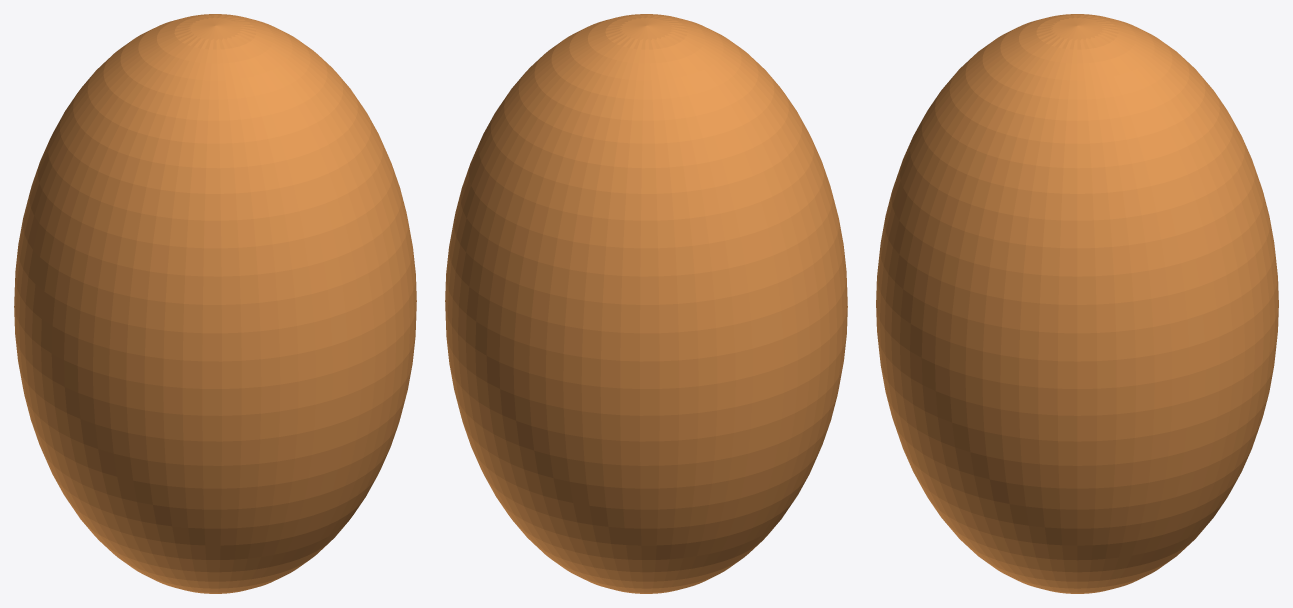
Rendered from egg.glb.
3 views of the same model, side by side, from view 1: azimuth 30°, elevation 25°; view 2: azimuth 150°, elevation 25°; view 3: azimuth 270°, elevation 25° (orthographic).
Visible parts, largest first — view 1: Sphere; view 2: Sphere; view 3: Sphere.
Boxes of the visible parts, <box> form: Sphere: <box>14,14,416,593</box>; Sphere: <box>445,14,847,593</box>; Sphere: <box>876,14,1278,593</box>.
Bounding box in the file's own units: 1.31 × 2 × 1.31.
